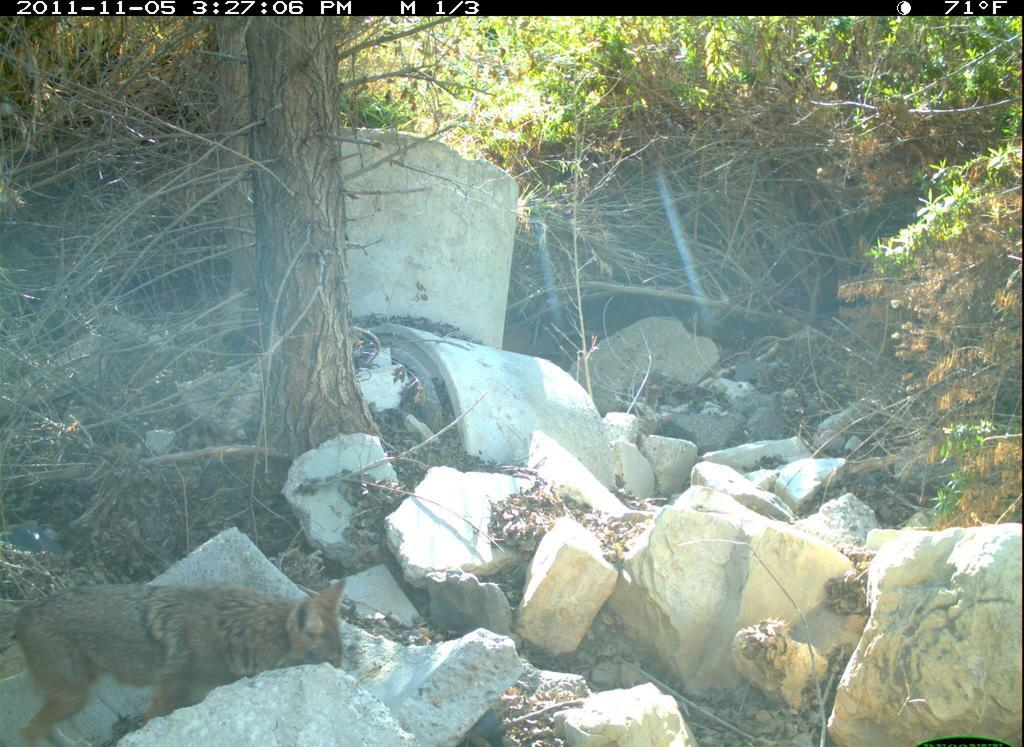coyote: (1, 571, 360, 747)
